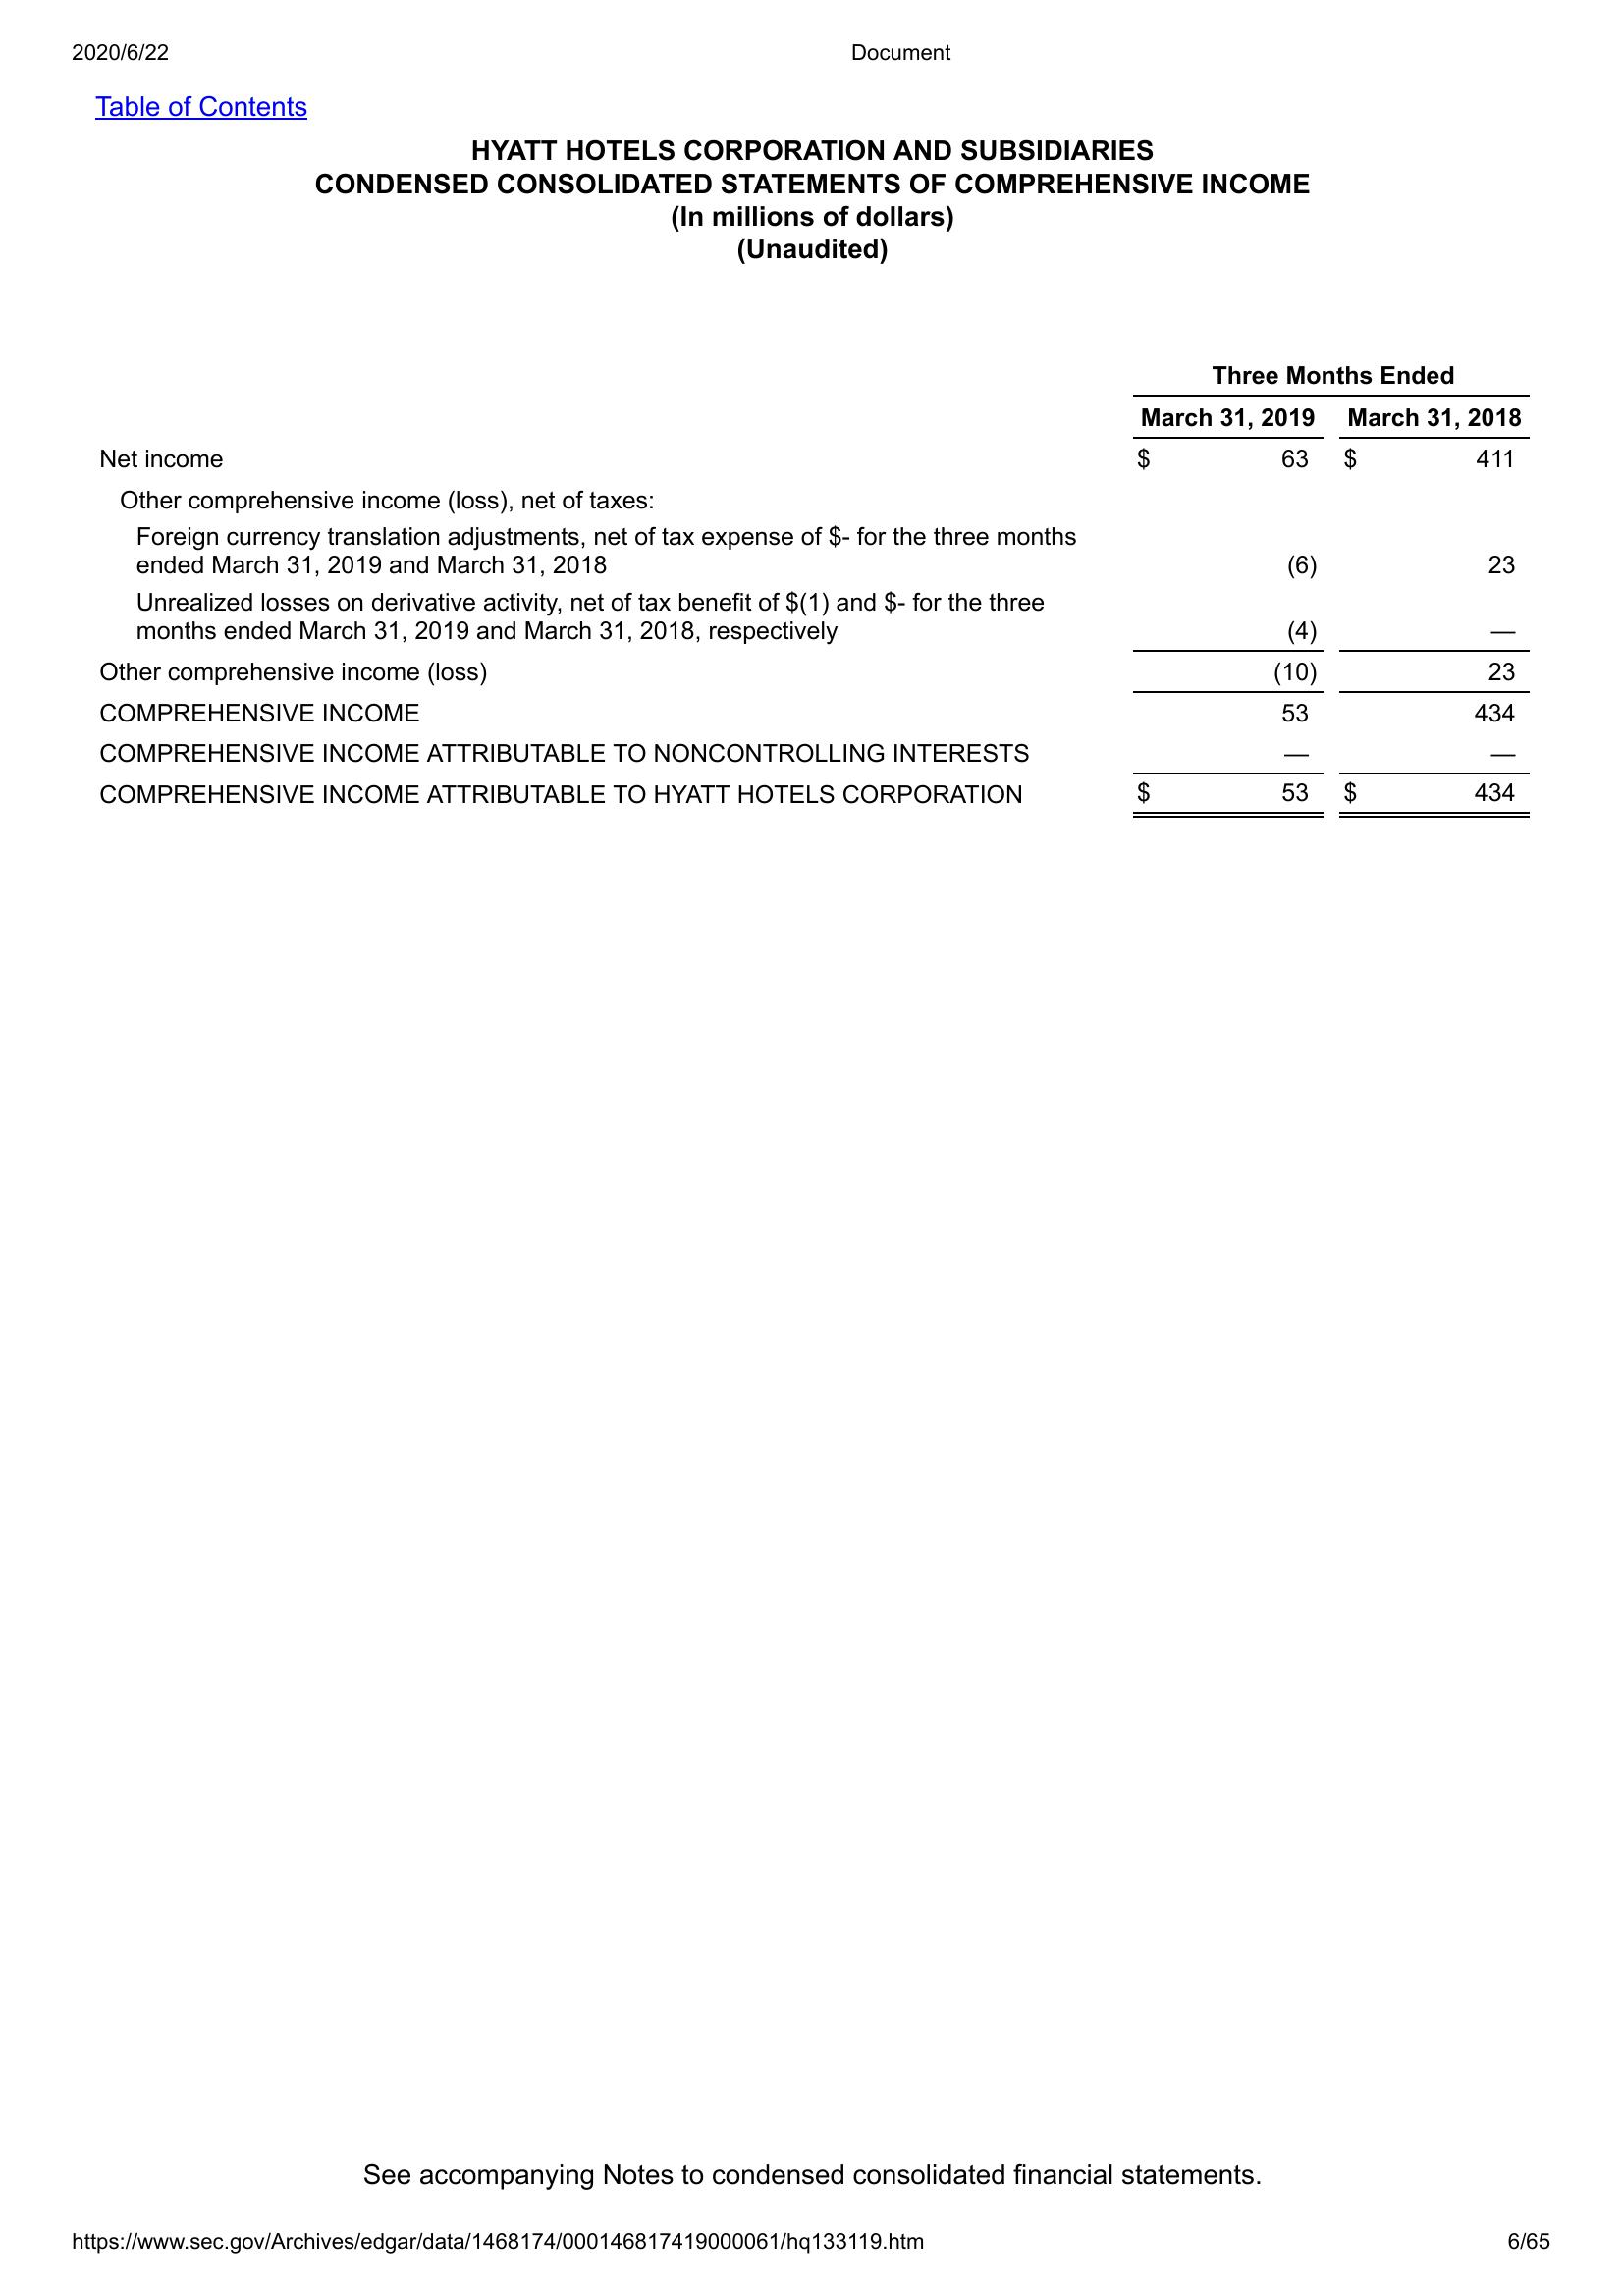table: (69, 360, 1551, 836)
